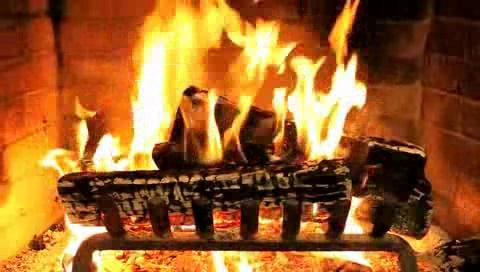fire: (115, 7, 355, 195)
